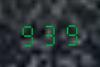nine: (18, 20, 38, 47), (61, 19, 81, 46)
three: (40, 20, 60, 46)
